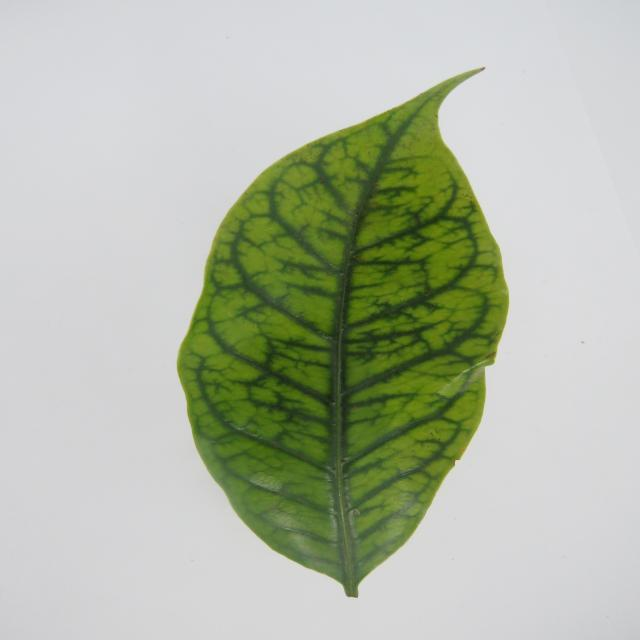DeficienciaNutricional-Magnesio: (178, 70, 508, 596)
